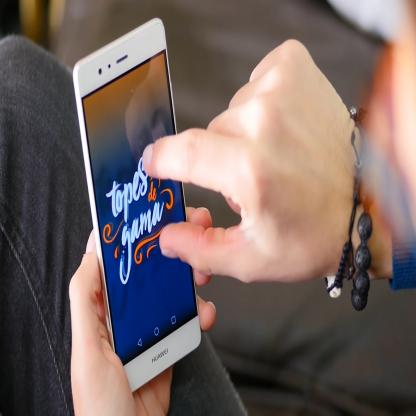smartphone: (70, 14, 204, 398)
